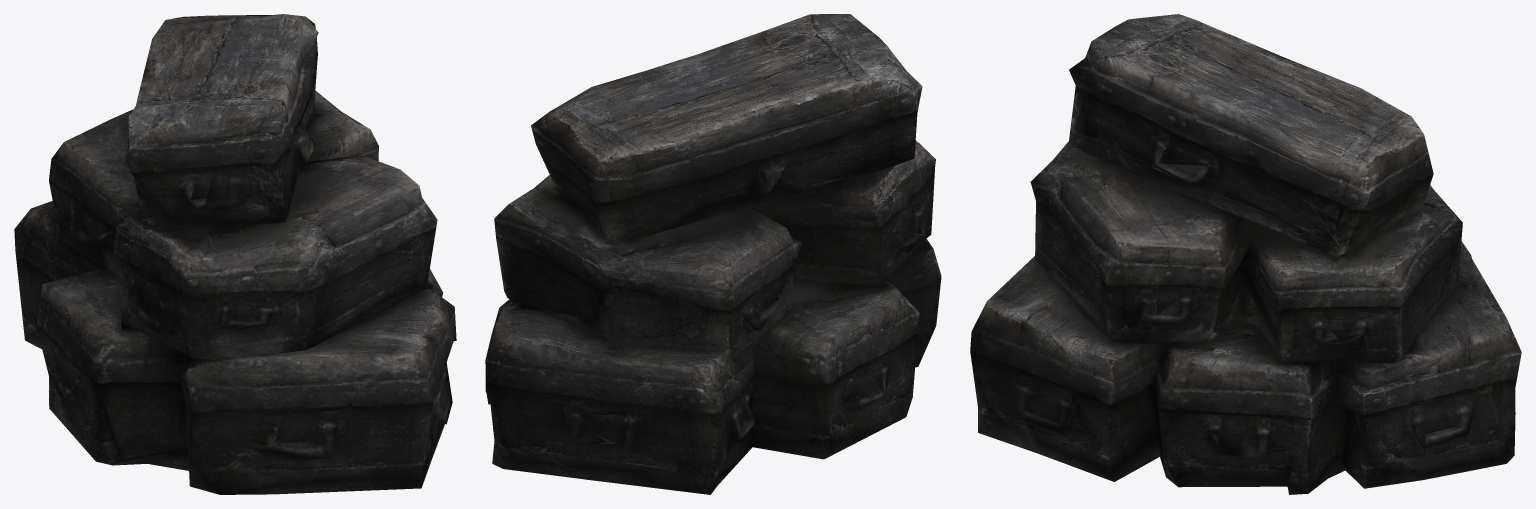
Rendered from coffinstack.glb.
3 views of the same model, side by side, from view 1: azimuth 30°, elevation 25°; view 2: azimuth 150°, elevation 25°; view 3: azimuth 270°, elevation 25° (orthographic). The views are drawn at different scales.
Parts seen in each view (by area): view 1: tripo_node_d121cdd7-8475-4ea7-a2c7-4619b1264c02; view 2: tripo_node_d121cdd7-8475-4ea7-a2c7-4619b1264c02; view 3: tripo_node_d121cdd7-8475-4ea7-a2c7-4619b1264c02.
Boxes of the visible parts, left/top/right/bottom form: tripo_node_d121cdd7-8475-4ea7-a2c7-4619b1264c02: left=14, top=14, right=456, bottom=494; tripo_node_d121cdd7-8475-4ea7-a2c7-4619b1264c02: left=485, top=14, right=941, bottom=494; tripo_node_d121cdd7-8475-4ea7-a2c7-4619b1264c02: left=970, top=14, right=1521, bottom=494.
Bounding box in the file's own units: 0.7209 × 0.696 × 1.
Materials: 1 (1 with a texture image).
